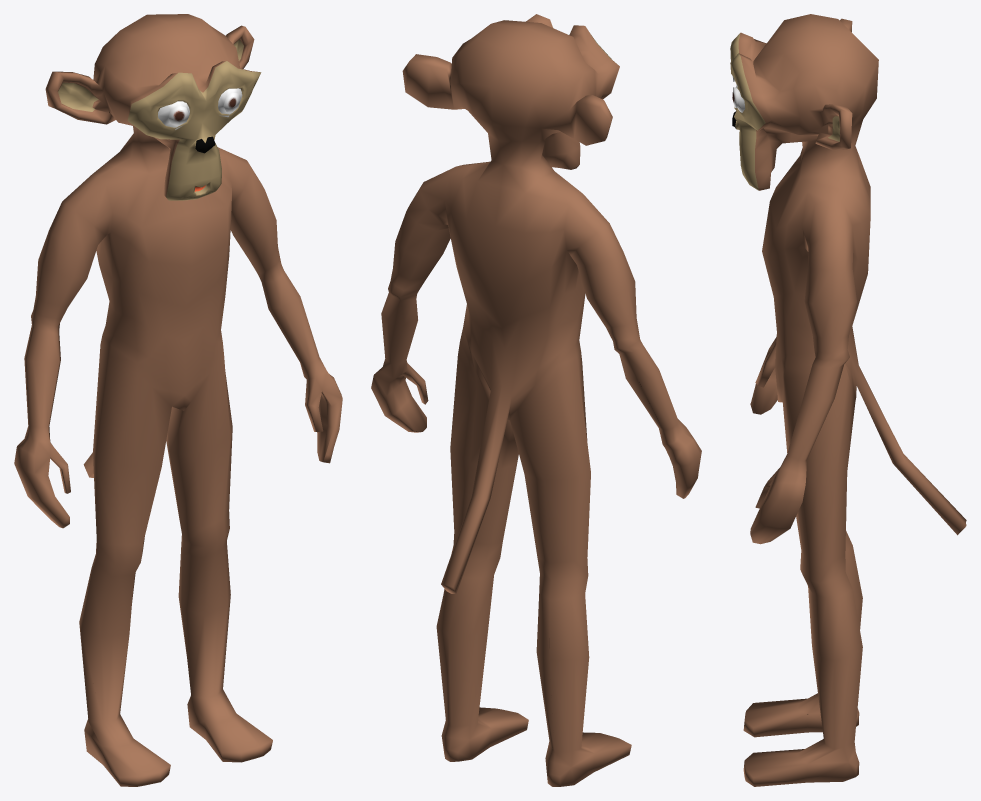
File: monkeyBase.fbx
3 views of the same model, side by side, from view 1: azimuth 30°, elevation 25°; view 2: azimuth 150°, elevation 25°; view 3: azimuth 270°, elevation 25° (orthographic).
Visible parts, largest first — view 1: Cube; view 2: Cube; view 3: Cube.
Part boxes in pixels (left/top/right/bottom): Cube: left=14, top=14, right=342, bottom=786; Cube: left=371, top=14, right=701, bottom=786; Cube: left=730, top=14, right=966, bottom=786.
Size of the model in its own units: 141 by 477 by 217.
